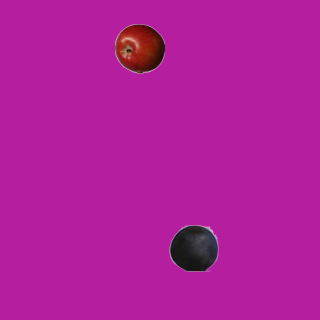Apple Braeburn: (114, 23, 164, 73)
Grape Blue: (168, 222, 218, 272)
